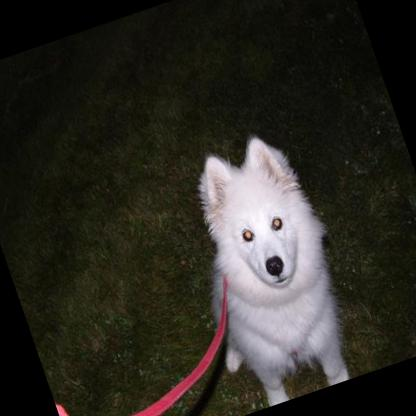Samoyed: (156, 121, 372, 412)
